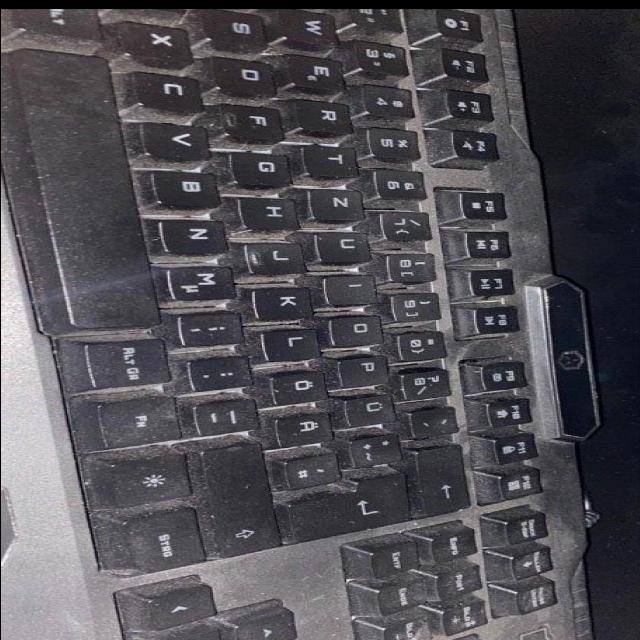0: (400, 329, 454, 361)
3: (354, 38, 413, 74)
4: (361, 83, 420, 117)
5: (368, 125, 426, 160)
6: (376, 167, 432, 199)
7: (382, 209, 440, 240)
8: (387, 249, 445, 281)
9: (392, 291, 448, 321)
accent: (413, 406, 463, 437)
ae: (278, 412, 338, 447)
altgr-right: (85, 335, 177, 389)
b: (153, 168, 227, 208)
c: (132, 69, 208, 111)
comma: (180, 310, 250, 346)
d: (214, 55, 280, 97)
del: (414, 442, 473, 516)
e: (288, 52, 348, 90)
enter: (278, 470, 414, 544)
f: (219, 102, 288, 141)
g: (235, 150, 297, 184)
h: (242, 195, 302, 230)
hash: (283, 452, 343, 487)
i: (328, 273, 382, 305)
j: (245, 240, 309, 274)
k: (256, 285, 318, 319)
keyboard: (0, 4, 605, 640)
l: (264, 327, 324, 361)
m: (165, 263, 242, 301)
minus: (191, 397, 264, 437)
n: (161, 216, 233, 254)
o: (332, 314, 388, 346)
oe: (273, 370, 332, 406)
p: (341, 355, 395, 388)
plus: (351, 432, 405, 466)
point: (191, 355, 257, 391)
r: (296, 98, 358, 132)
s: (202, 6, 270, 54)
shift-right: (201, 433, 278, 561)
space: (0, 50, 170, 332)
ss: (403, 367, 457, 399)
strg-right: (93, 502, 208, 575)
t: (306, 142, 364, 176)
u: (317, 229, 376, 261)
ue: (344, 393, 400, 428)
v: (143, 120, 216, 160)
w: (271, 6, 341, 45)
x: (115, 18, 198, 68)
z: (310, 186, 369, 220)
